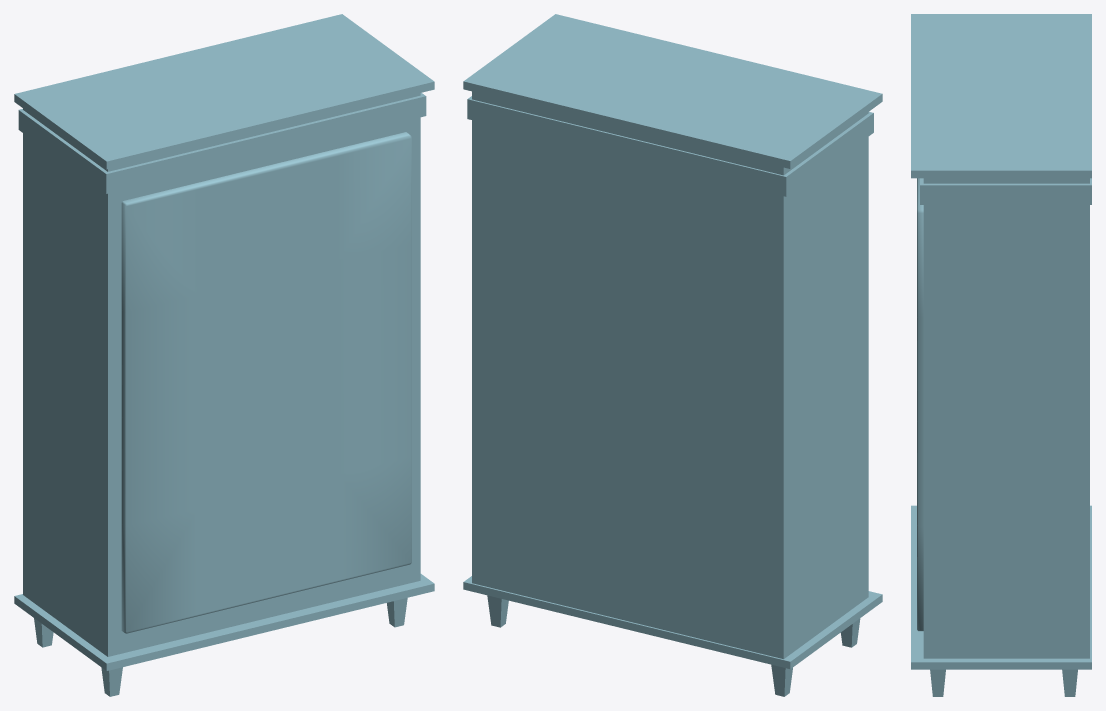
File: lo_Prop_Cabinet_B.fbx
3 renders of one model, left to right at view 1: azimuth 30°, elevation 25°; view 2: azimuth 150°, elevation 25°; view 3: azimuth 270°, elevation 25°, orthographic. The views are drawn at different scales.
Parts seen in each view (by area): view 1: lo_Prop_Cabinet_B_LOD0; view 2: lo_Prop_Cabinet_B_LOD0; view 3: lo_Prop_Cabinet_B_LOD0.
Boxes of the visible parts, x1=… form: lo_Prop_Cabinet_B_LOD0: x1=14, y1=14, x2=434, y2=696; lo_Prop_Cabinet_B_LOD0: x1=463, y1=14, x2=882, y2=696; lo_Prop_Cabinet_B_LOD0: x1=911, y1=14, x2=1091, y2=696.
Size of what is drawn, in the model's own units: 2.16 by 3.44 by 1.05.
